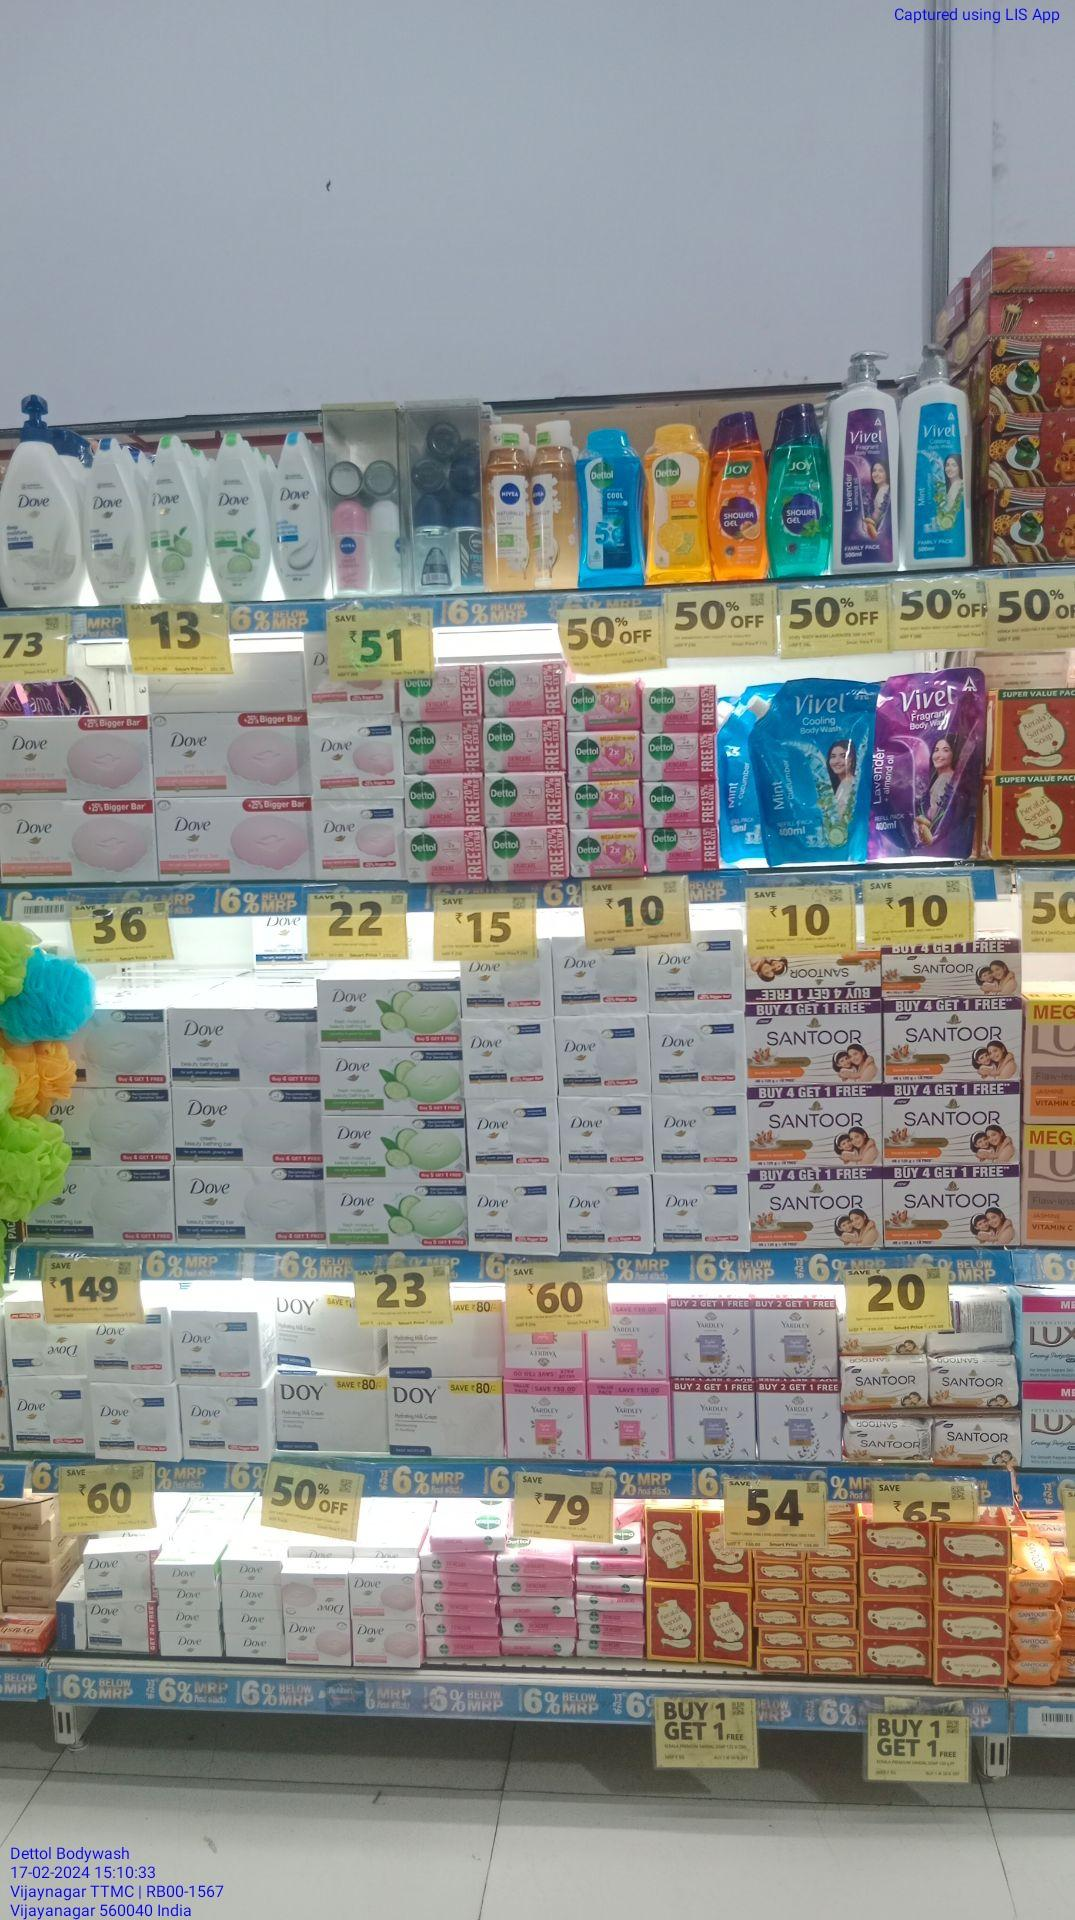Dettol_Bodywash_Cool: (576, 425, 645, 589)
Dettol_Bodywash_Refresh: (648, 422, 712, 587)
Dove_Deep_Moisture_Body_Wash_250ML: (87, 436, 146, 603)
Dove_Gentle_Exfoliating_Body_Wash_250ML: (272, 435, 328, 599)
Dove_Refreshing_Body_Wash_250ML: (206, 431, 264, 603), (148, 438, 203, 604)
Joy_Shower_Gel_Mandarin_and_Lemongrass_250ML: (710, 407, 770, 583)
Joy_Shower_Gel_Mint_and_Eucalyptus_250ML: (772, 400, 831, 575)
